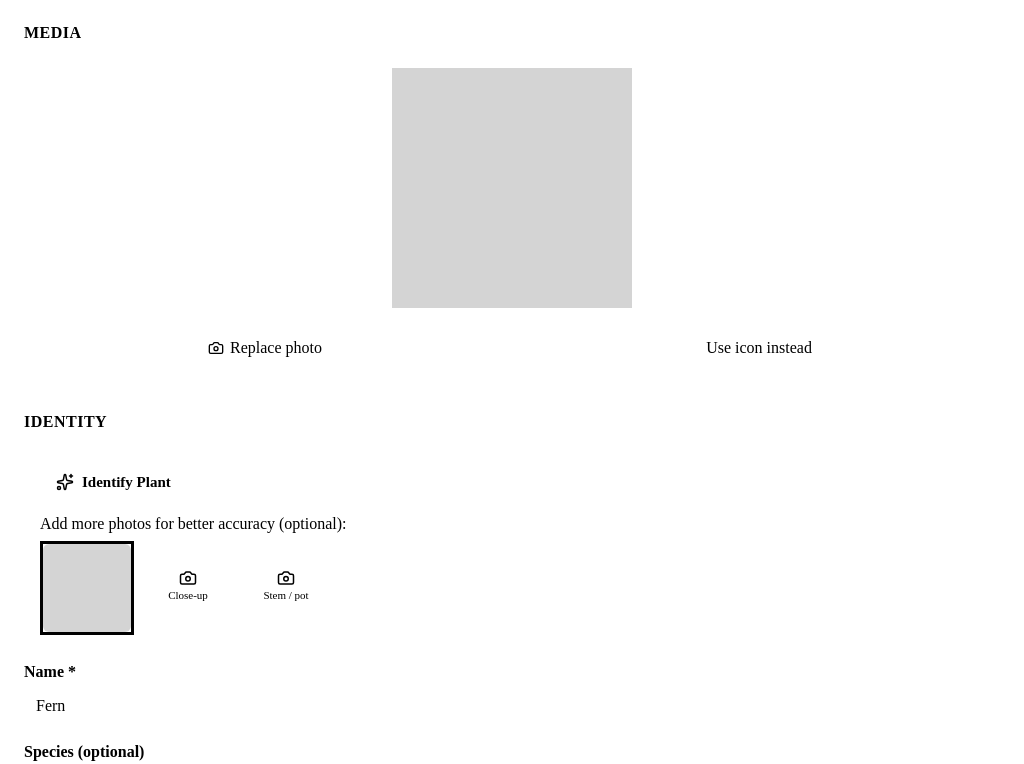
Test: PlantForm identify feedback › keeps identify failures inline
What coordinates should you click on to do the following:
click the button "Identify Plant"
I would click on:
 (126, 482)
Its box is [40, 461, 984, 503].
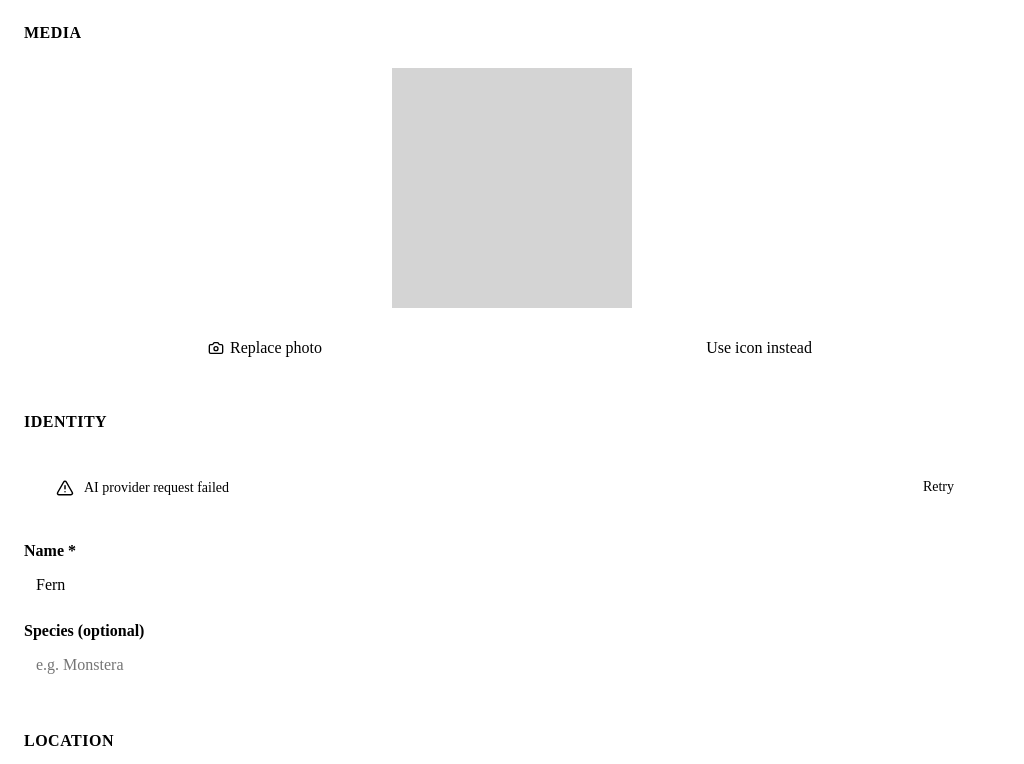
Now the text "AI provider request failed" is shown, box [84, 480, 229, 496]
Now the button "Retry" is shown, box [909, 473, 968, 502]
